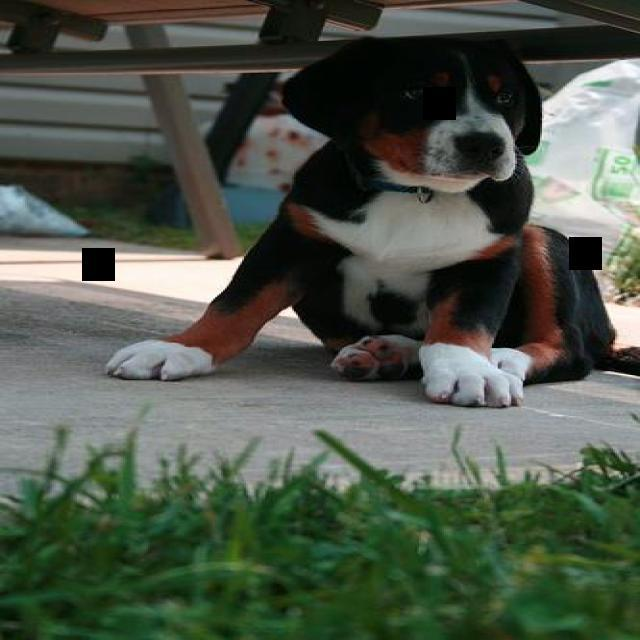puppy-dog: (105, 33, 640, 410)
